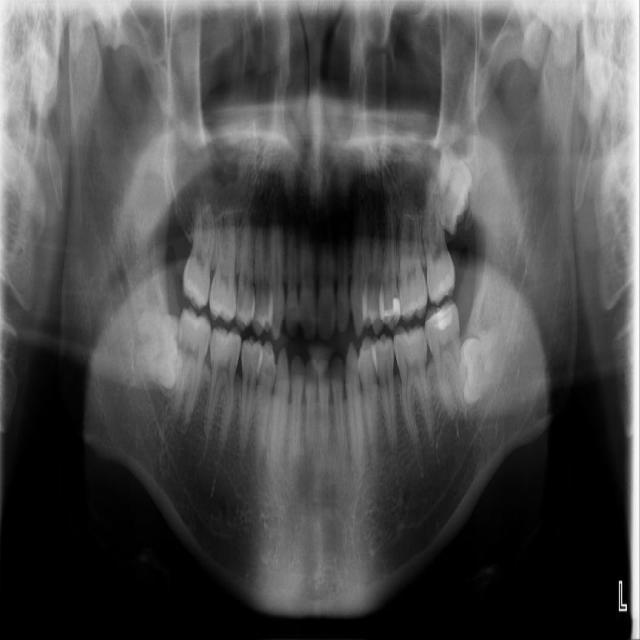52: (421, 298, 463, 356), (426, 251, 456, 306), (379, 282, 400, 331)
73: (612, 574, 622, 602)
BioHorizons Implant: (414, 166, 458, 306)
BioLife Implant: (426, 133, 481, 236)
Biomet 3i Implant: (452, 326, 507, 405)
Blue Sky Bio Implant: (421, 298, 471, 422)
Caries: (179, 186, 222, 312)
Implant: (170, 303, 214, 424)
Keystone Dental Implant: (134, 309, 184, 389)
